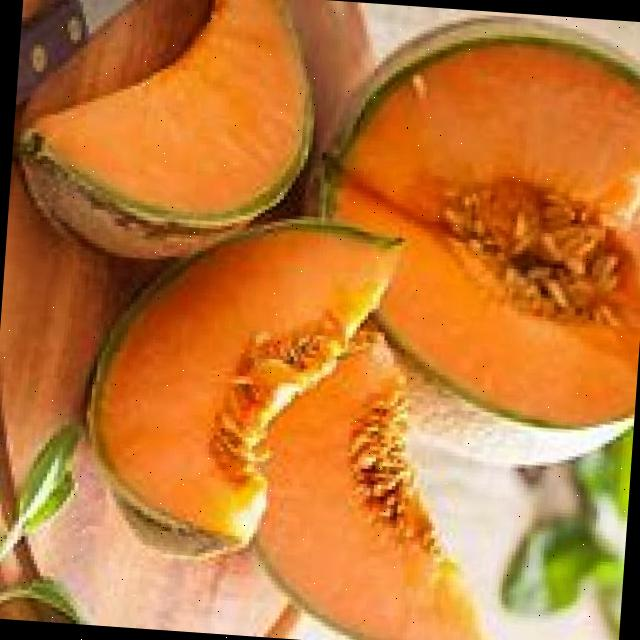Hami Melon: (285, 0, 640, 470), (78, 208, 404, 572), (243, 332, 511, 640)
